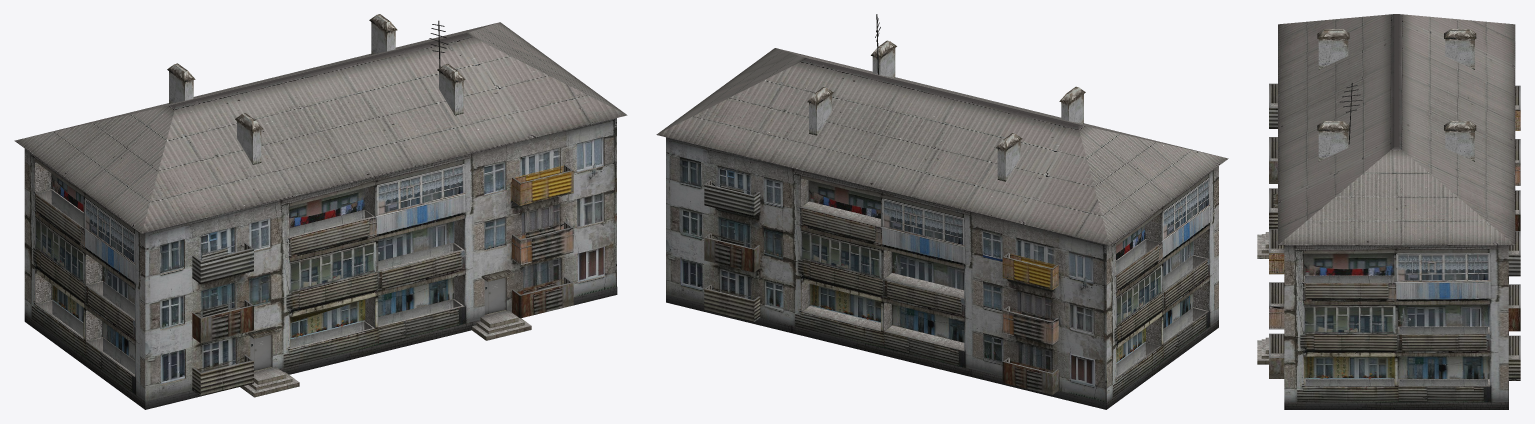
The model's file is minihouse_7.fbx.
3 views of the same model, side by side, from view 1: azimuth 30°, elevation 25°; view 2: azimuth 150°, elevation 25°; view 3: azimuth 270°, elevation 25° (orthographic). The views are drawn at different scales.
Parts seen in each view (by area): view 1: 4fc380a3-8d43-4954-9a16-31fe0f25b0d1; view 2: 4fc380a3-8d43-4954-9a16-31fe0f25b0d1; view 3: 4fc380a3-8d43-4954-9a16-31fe0f25b0d1.
Boxes of the visible parts, box(x1,y1,x2,y2) form: 4fc380a3-8d43-4954-9a16-31fe0f25b0d1: box(14, 14, 627, 409); 4fc380a3-8d43-4954-9a16-31fe0f25b0d1: box(656, 14, 1228, 409); 4fc380a3-8d43-4954-9a16-31fe0f25b0d1: box(1257, 14, 1520, 409).
Bounding box in the file's own units: 25.15 × 13.93 × 12.67.
Materials: 1 (1 with a texture image).
